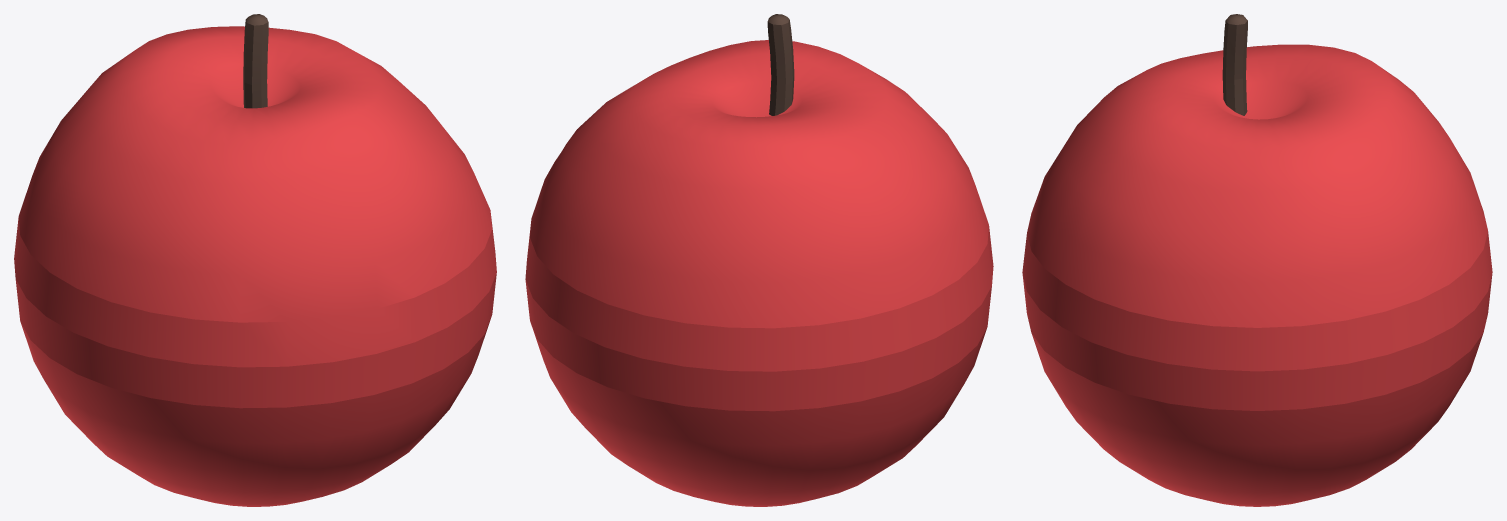
File: pomme.gltf
3 views of the same model, side by side, from view 1: azimuth 30°, elevation 25°; view 2: azimuth 150°, elevation 25°; view 3: azimuth 270°, elevation 25° (orthographic). The views are drawn at different scales.
Parts seen in each view (by area): view 1: Cube.001; view 2: Cube.001; view 3: Cube.001.
Part boxes in pixels (x1,y1,x2,y2): Cube.001: [14, 14, 496, 506]; Cube.001: [525, 14, 993, 506]; Cube.001: [1022, 14, 1492, 506].
Bounding box in the file's own units: 0.0234 × 0.0255 × 0.0234.
